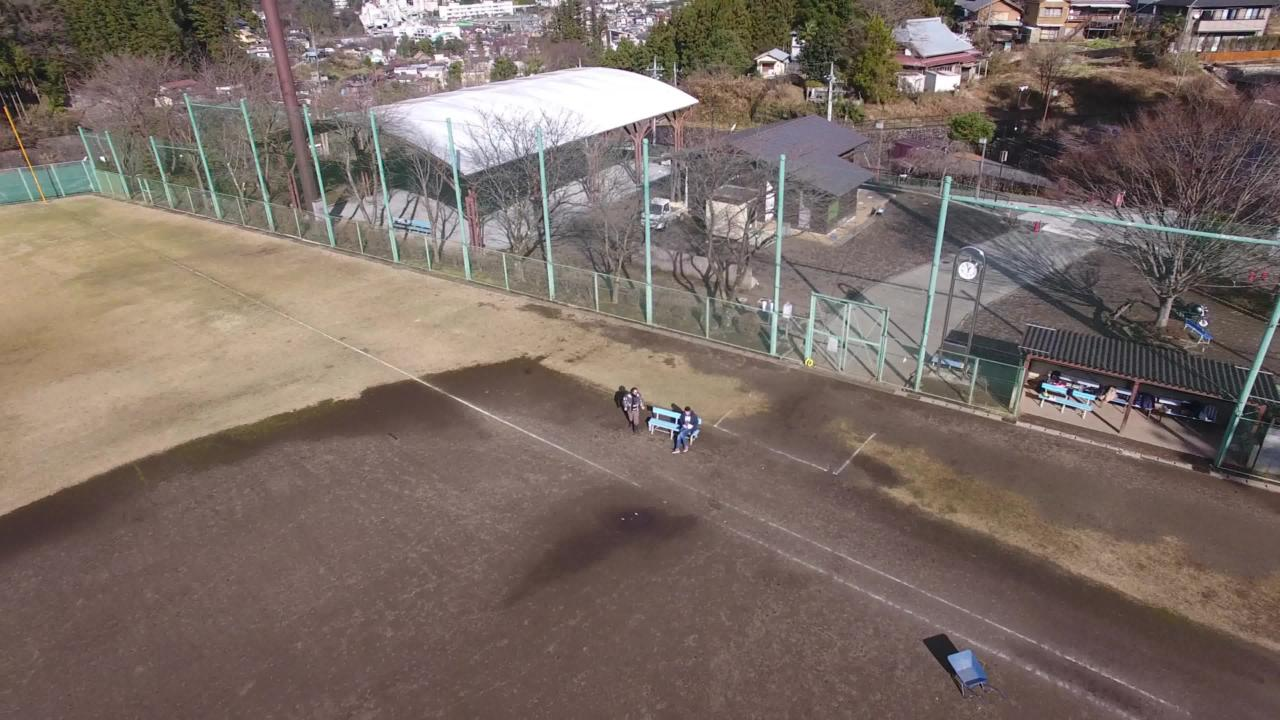car: (634, 197, 697, 238)
person: (614, 383, 648, 437), (669, 403, 703, 457)
